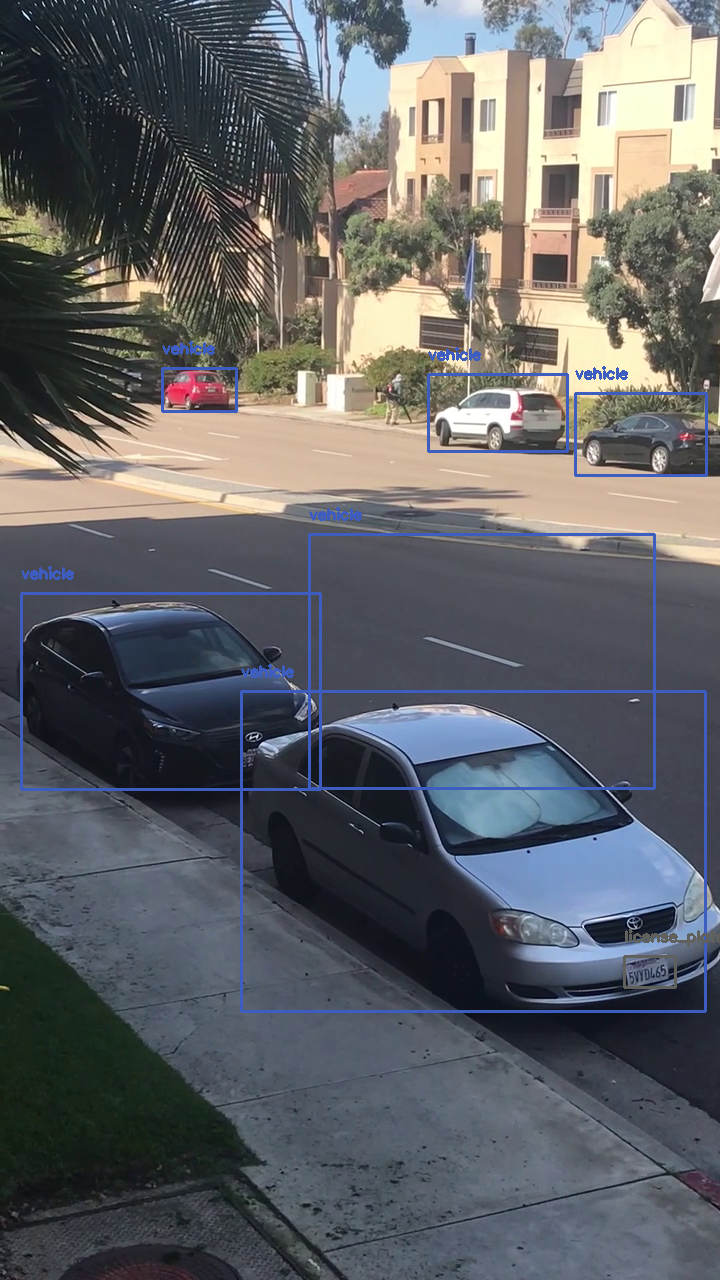license_plate: (624, 956, 675, 987)
vehicle: (241, 691, 705, 1011), (309, 534, 654, 788), (21, 593, 320, 789), (575, 393, 706, 475), (428, 374, 567, 451), (162, 368, 236, 411)
